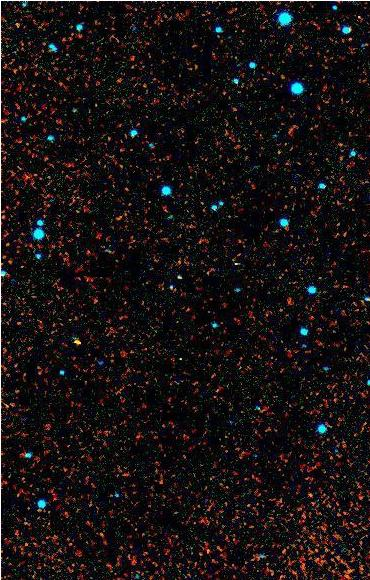star: (61, 325, 91, 355)
